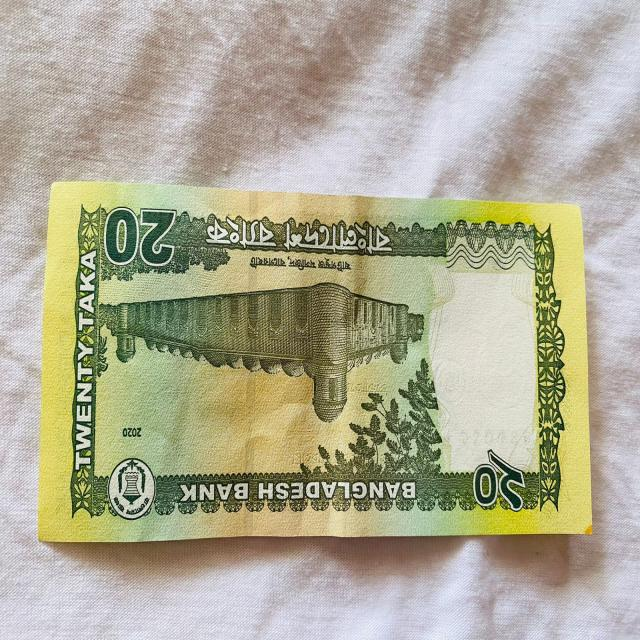Taka: (43, 153, 600, 552)
